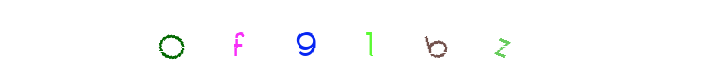0: (131, 0, 211, 80)
1: (315, 0, 395, 80)
9: (266, 0, 346, 80)
B: (349, 0, 429, 80)
F: (216, 0, 296, 80)
Z: (384, 0, 464, 80)
